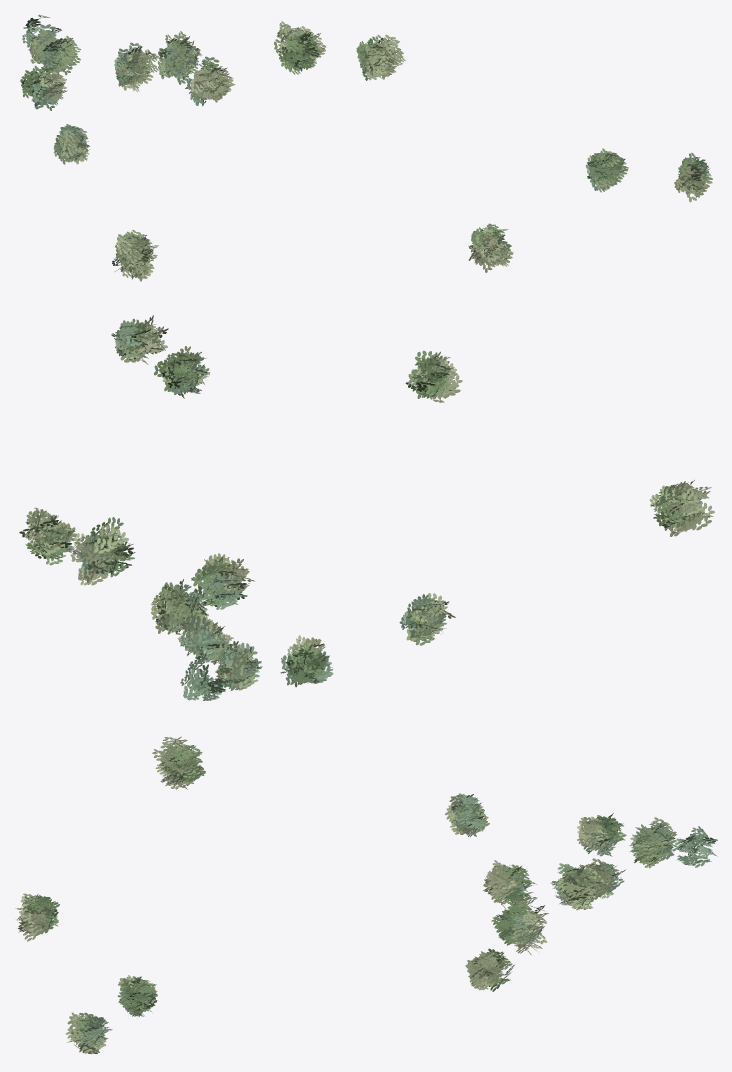
File: campus-tree--1_-3-far.glb
3 renders of one model, top to bottom at view 1: azimuth 30°, elevation 25°; view 2: azimuth 150°, elevation 25°; view 3: azimuth 270°, elevation 25°, orthographic. The views are drawn at different scales.
Visible parts, largest first — view 1: Campus leaf canopy; view 2: Campus leaf canopy; view 3: Campus leaf canopy.
Part boxes in pixels (x1=…): Campus leaf canopy: x1=20, y1=14, x2=712, y2=281; Campus leaf canopy: x1=19, y1=315, x2=714, y2=700; Campus leaf canopy: x1=15, y1=736, x2=717, y2=1054.
Bounding box in the file's own units: 69.3 × 7.87 × 73.95.
1 material, 1 textured.
